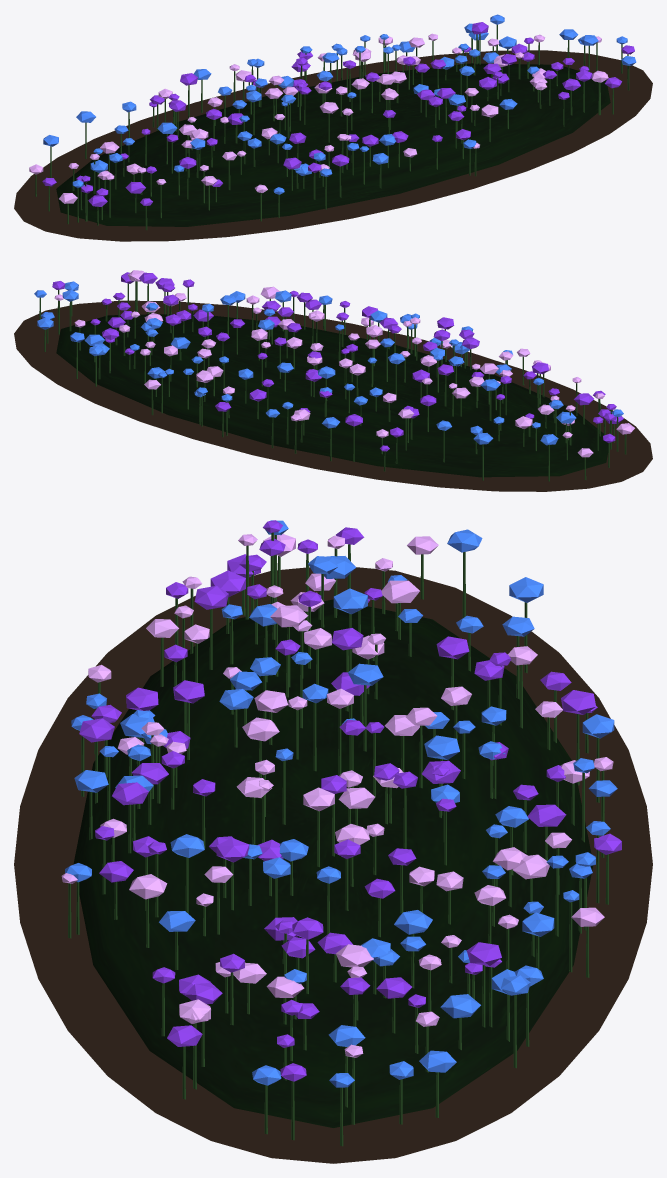
File: flower-bed-6.glb
3 views of the same model, one above another, from view 1: azimuth 30°, elevation 25°; view 2: azimuth 150°, elevation 25°; view 3: azimuth 270°, elevation 25° (orthographic). The views are drawn at different scales.
Parts seen in each view (by area): view 1: flower-bed-6_MeshStandardMaterial (×4); view 2: flower-bed-6_MeshStandardMaterial (×4); view 3: flower-bed-6_MeshStandardMaterial (×4).
Boxes of the visible parts, left/top/right/bottom form: flower-bed-6_MeshStandardMaterial (×4): left=14, top=14, right=652, bottom=241; flower-bed-6_MeshStandardMaterial (×4): left=14, top=270, right=652, bottom=491; flower-bed-6_MeshStandardMaterial (×4): left=14, top=520, right=652, bottom=1163.
Bounding box in the file's own units: 5.1 × 0.5594 × 2.3.
Materials: 4 (1 with a texture image).
